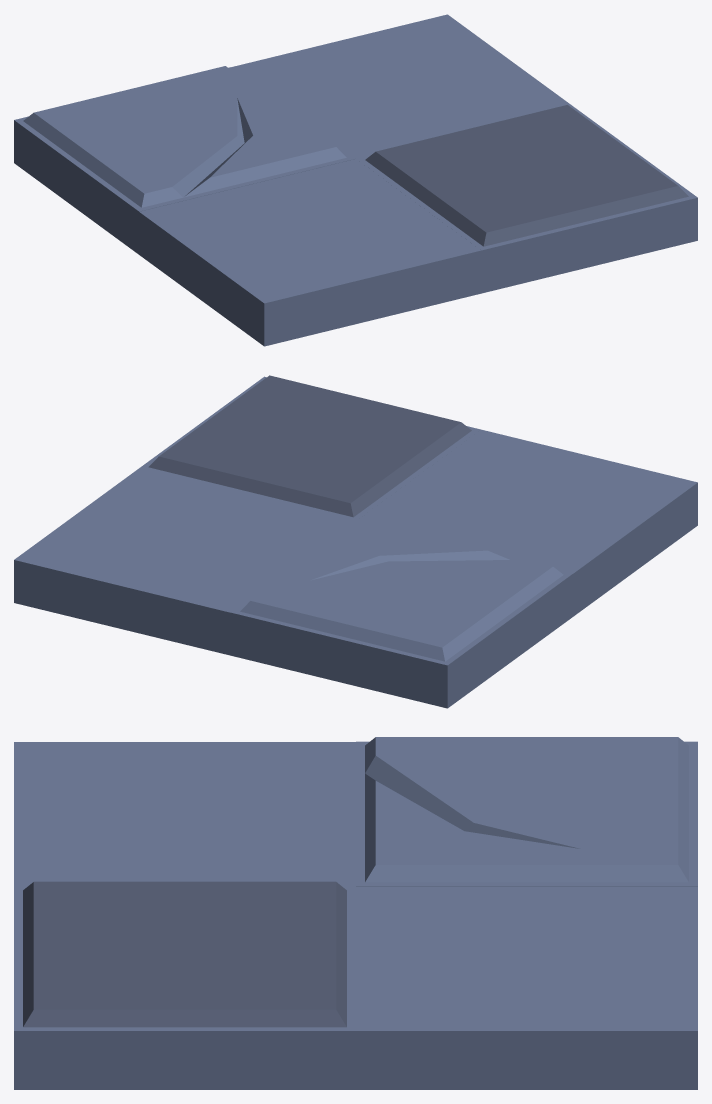
Rendered from ground3.fbx.
3 views of the same model, one above another, from view 1: azimuth 30°, elevation 25°; view 2: azimuth 150°, elevation 25°; view 3: azimuth 270°, elevation 25° (orthographic). The views are drawn at different scales.
Visible parts, largest first — view 1: floor.003; view 2: floor.003; view 3: floor.003.
Boxes of the visible parts, box(x1,y1,x2,y2) form: floor.003: box(14, 14, 697, 346); floor.003: box(14, 375, 697, 708); floor.003: box(14, 737, 697, 1089).
Bounding box in the file's own units: 211 × 24.53 × 211.
